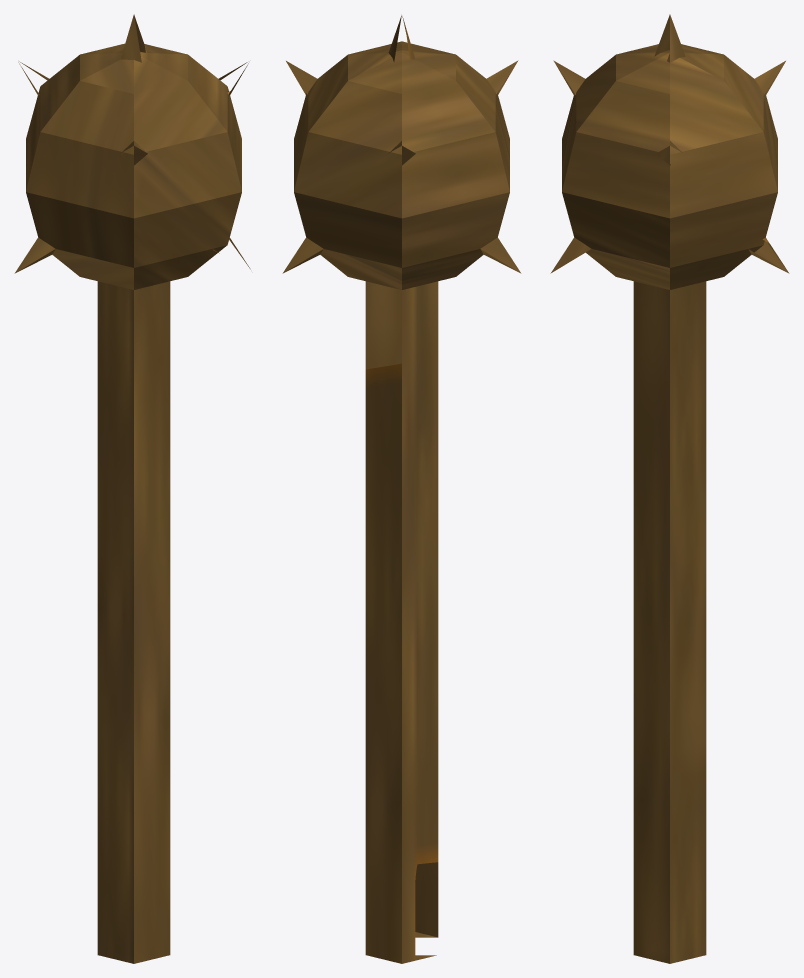
Rendered from Heavymace.obj.
The picture shows the model from 3 angles, left to right: view 1: azimuth 30°, elevation 25°; view 2: azimuth 150°, elevation 25°; view 3: azimuth 270°, elevation 25°; orthographic projection.
Parts seen in each view (by area): view 1: Sphere; view 2: Sphere; view 3: Sphere.
Boxes of the visible parts, x1,y1,x2,y2 form: Sphere: [14, 14, 250, 963]; Sphere: [282, 15, 521, 963]; Sphere: [550, 14, 789, 963].
Size of the model in its own units: 1.63 by 6.15 by 1.43.
